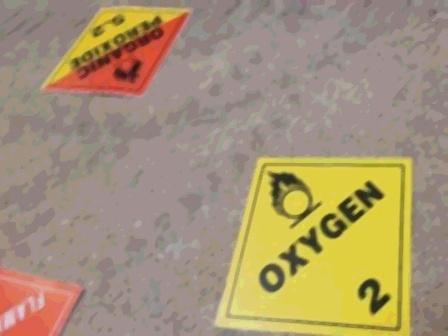organic-peroxide: (37, 3, 194, 93)
oxidizer: (214, 152, 417, 336)
